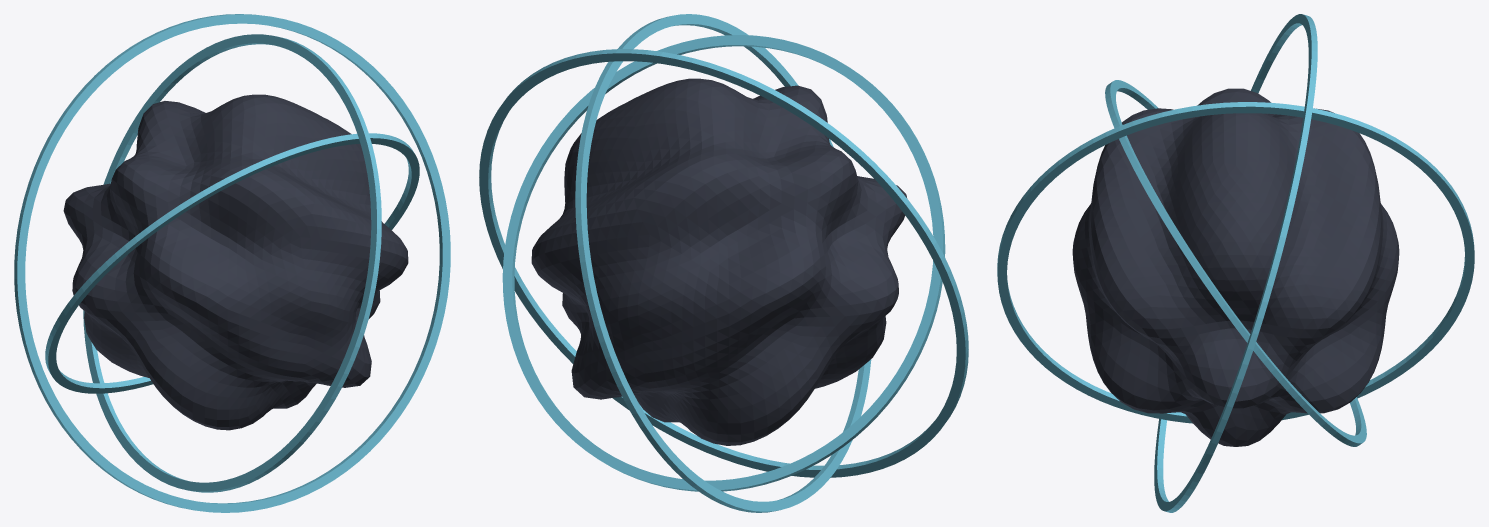
The model's file is gpu-artifact.glb.
The picture shows the model from 3 angles, left to right: view 1: azimuth 30°, elevation 25°; view 2: azimuth 150°, elevation 25°; view 3: azimuth 270°, elevation 25°; orthographic projection. The views are drawn at different scales.
Parts seen in each view (by area): view 1: zoth-ascii-magic_obsidian_core, zoth-ascii-magic_orbital_ring_2, zoth-ascii-magic_orbital_ring_1, zoth-ascii-magic_orbital_ring_0; view 2: zoth-ascii-magic_obsidian_core, zoth-ascii-magic_orbital_ring_0, zoth-ascii-magic_orbital_ring_2, zoth-ascii-magic_orbital_ring_1; view 3: zoth-ascii-magic_obsidian_core, zoth-ascii-magic_orbital_ring_1, zoth-ascii-magic_orbital_ring_2, zoth-ascii-magic_orbital_ring_0.
Part boxes in pixels (x1,y1,x2,y2): zoth-ascii-magic_obsidian_core: (63,94,408,430); zoth-ascii-magic_orbital_ring_2: (14,14,450,512); zoth-ascii-magic_orbital_ring_1: (83,34,381,492); zoth-ascii-magic_orbital_ring_0: (45,133,419,393); zoth-ascii-magic_obsidian_core: (531,78,907,445); zoth-ascii-magic_orbital_ring_0: (502,35,945,491); zoth-ascii-magic_orbital_ring_2: (479,49,968,477); zoth-ascii-magic_orbital_ring_1: (575,14,871,512); zoth-ascii-magic_obsidian_core: (1072,88,1399,446); zoth-ascii-magic_orbital_ring_1: (997,102,1474,423); zoth-ascii-magic_orbital_ring_2: (1154,14,1317,512); zoth-ascii-magic_orbital_ring_0: (1105,80,1366,446).
Size of the model in its own units: 3.24 by 3.1 by 3.
